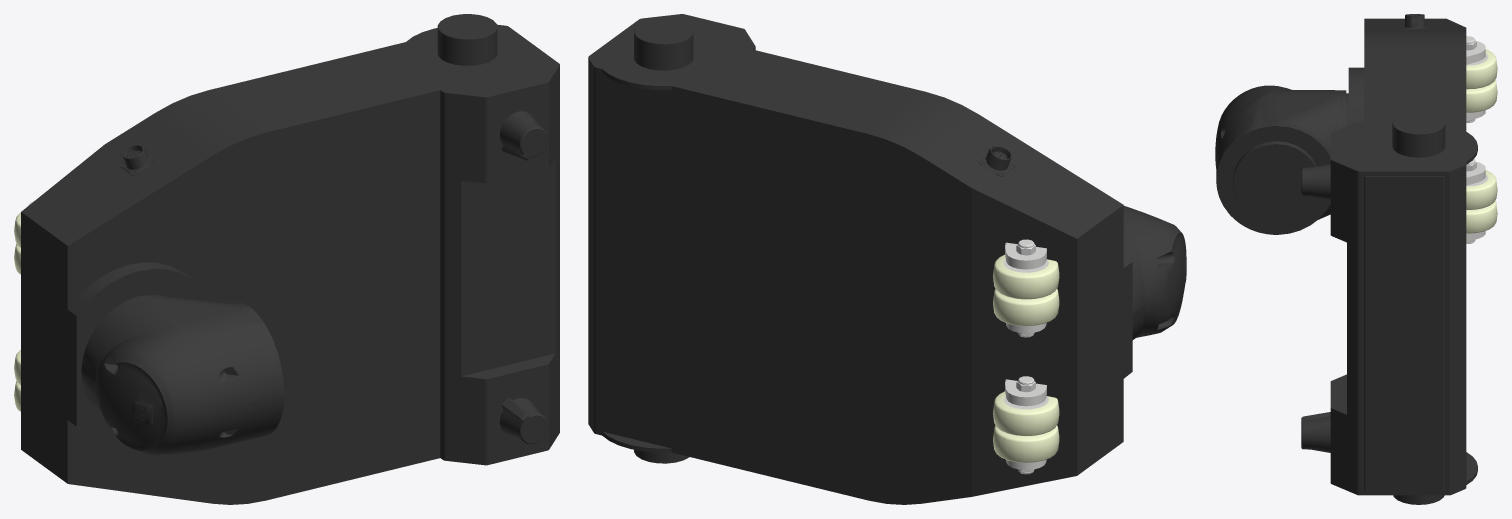
The picture shows the model from 3 angles, left to right: view 1: azimuth 30°, elevation 25°; view 2: azimuth 150°, elevation 25°; view 3: azimuth 270°, elevation 25°; orthographic projection. The views are drawn at different scales.
Visible parts, largest first — view 1: MOBILE_BASE_V2; view 2: MOBILE_BASE_V2; view 3: MOBILE_BASE_V2.
Part boxes in pixels (x1,y1,x2,y2): MOBILE_BASE_V2: (14,14,559,504); MOBILE_BASE_V2: (588,14,1186,504); MOBILE_BASE_V2: (1215,14,1497,504).
Size of the model in its own units: 0.6388 by 0.519 by 0.3579.
